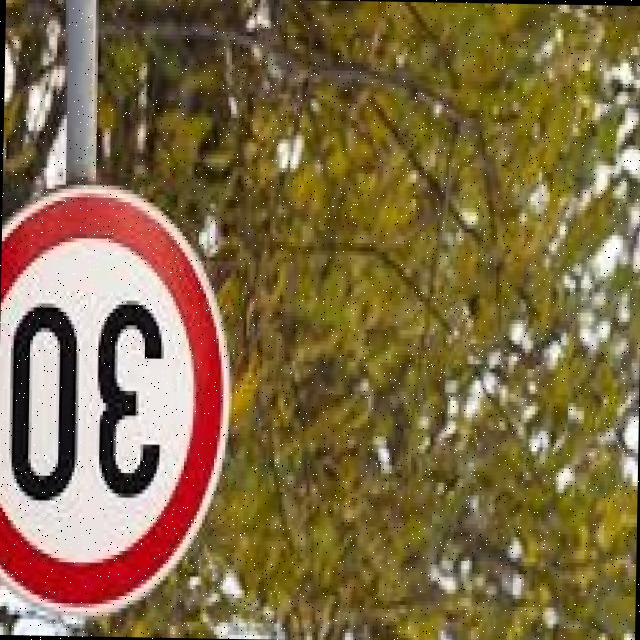speed_limit_30: (0, 183, 243, 626)
